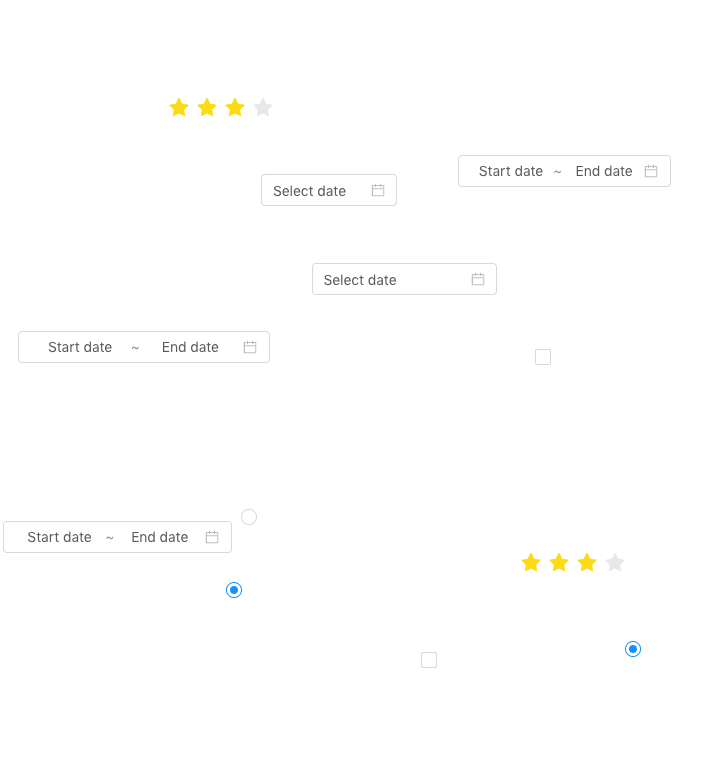Checkbox: (535, 346, 551, 367), (421, 649, 437, 670)
DatePicker: (312, 263, 497, 295), (261, 174, 397, 206)
Radio: (226, 579, 242, 599), (625, 638, 641, 658), (241, 506, 257, 526)
RangePicker: (18, 331, 270, 363), (3, 521, 232, 553), (458, 155, 671, 187)
Rate: (521, 546, 641, 578), (169, 91, 289, 123)
